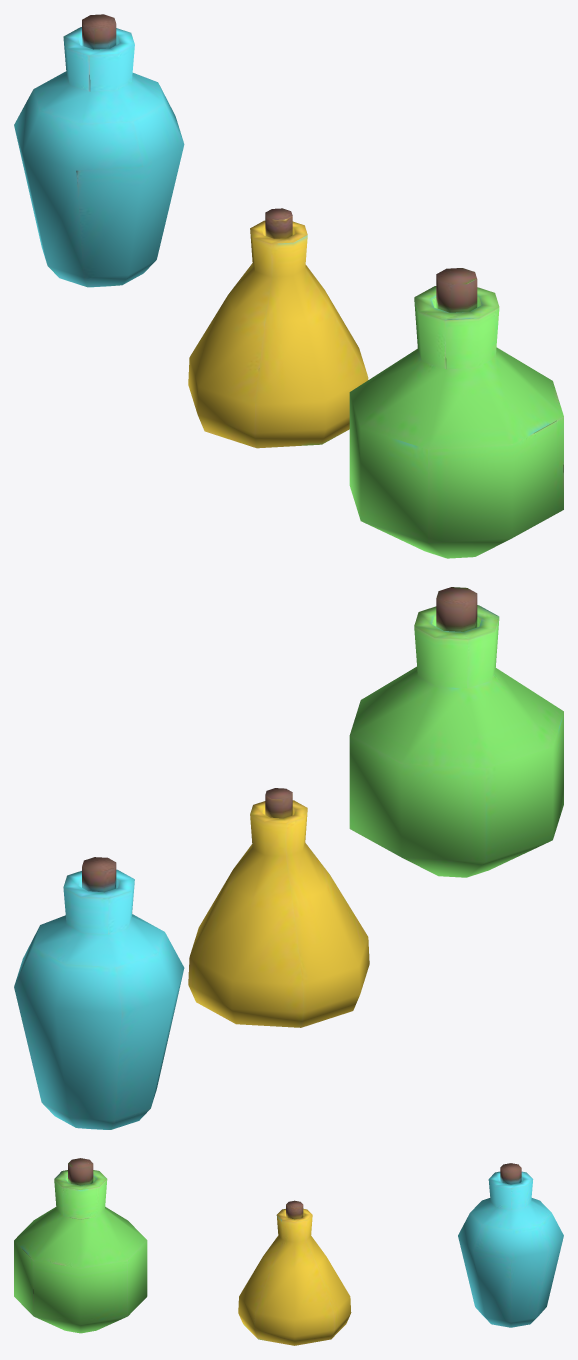
File: Potion.fbx
3 views of the same model, one above another, from view 1: azimuth 30°, elevation 25°; view 2: azimuth 150°, elevation 25°; view 3: azimuth 270°, elevation 25° (orthographic). The views are drawn at different scales.
Visible parts, largest first — view 1: Potion, Potion2, Potion3; view 2: Potion, Potion2, Potion3; view 3: Potion, Potion2, Potion3.
Part boxes in pixels (x1=…): Potion: x1=349, y1=268, x2=563, y2=558; Potion2: x1=14, y1=14, x2=184, y2=287; Potion3: x1=188, y1=208, x2=368, y2=448; Potion: x1=349, y1=587, x2=563, y2=877; Potion2: x1=14, y1=857, x2=184, y2=1129; Potion3: x1=188, y1=788, x2=369, y2=1027; Potion: x1=14, y1=1158, x2=147, y2=1333; Potion2: x1=458, y1=1163, x2=563, y2=1327; Potion3: x1=238, y1=1200, x2=351, y2=1345.
Bounding box in the file's own units: 27.87 × 37.01 × 115.
